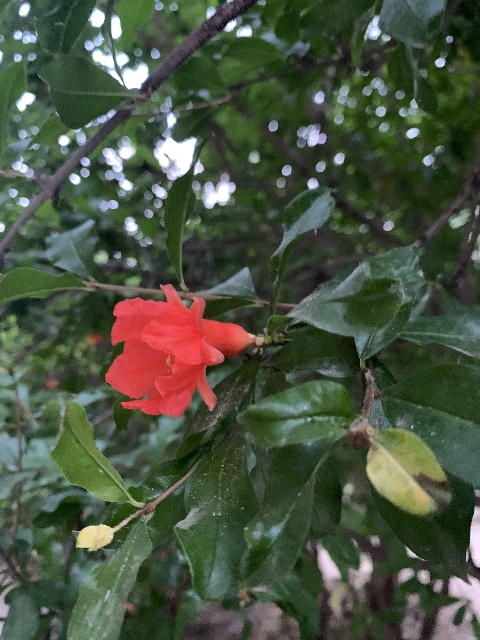flower: (105, 282, 254, 417)
